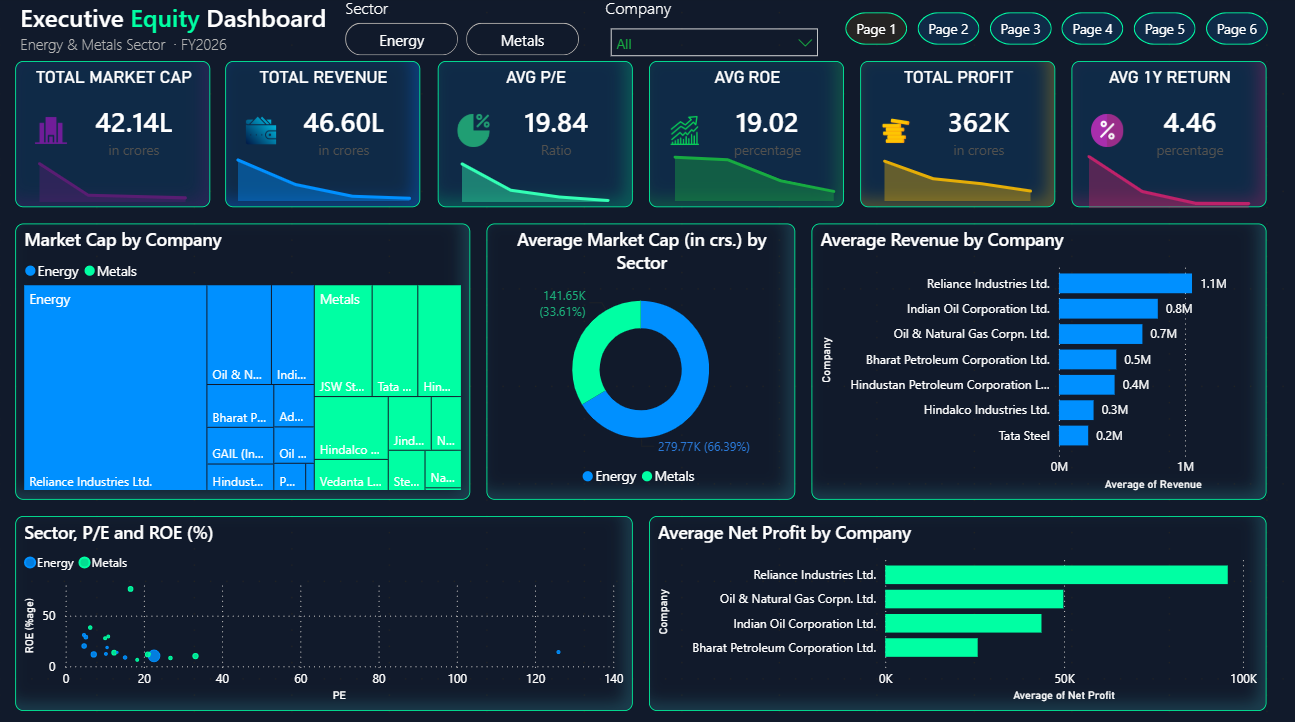

Layout of this report page (visuals, bound fields, positions):
{"tool":"powerbi","page":{"name":"Page 1","canvas":[1280,720],"ordinal":0},"visuals":[{"type":"textbox","box":[16,0,448,80],"z":0},{"type":"advancedSlicerVisual","fields":{"Values":["Company (Company_Master).Sector"]},"box":[336,0,240,64],"z":1000},{"type":"treemap","title":"Market Cap by Company","fields":{"Group":["Company (Company_Master).Sector"],"Details":["Company (Company_Master).Company"],"Values":["Avg(Company (Company_Master).Market Cap in crs.)"]},"box":[16,224,448,272],"z":2000},{"type":"donutChart","title":"Average Market Cap (in crs.) by Sector","fields":{"Category":["Company (Company_Master).Sector"],"Y":["Avg(Company (Company_Master).Market Cap in crs.)"]},"box":[480,224,304,272],"z":3000},{"type":"clusteredBarChart","title":"Average Revenue by Company","fields":{"Category":["Company (Company_Master).Company"],"Y":["Avg(Company (Company_Master).Revenue)"]},"box":[800,224,448,272],"z":4000},{"type":"scatterChart","title":"Sector, P/E and ROE (%)","fields":{"Y":["Company (Company_Master).ROE (%age)"],"X":["Company (Company_Master).PE"],"Size":["Sum(Company (Company_Master).Market Cap in crs.)"],"Series":["Company (Company_Master).Sector"]},"box":[16,512,608,192],"z":5000},{"type":"clusteredBarChart","title":"Average Net Profit by Company","fields":{"Category":["Company (Company_Master).Company"],"Y":["Avg(Company (Company_Master).Net Profit)"]},"box":[640,512,608,192],"z":6000},{"type":"cardVisual","title":"AVG 1Y RETURN","fields":{"Data":["Company (Company_Master).avg 1Y return"]},"box":[1056,64,192,144],"z":7000},{"type":"areaChart","fields":{"Category":["Company (Company_Master).Company"],"Y":["Avg(Company (Company_Master).1Y Return (%age))"]},"box":[1047.4,144,209.2,70.2],"z":8000},{"type":"cardVisual","title":"TOTAL REVENUE","fields":{"Data":["Sum(Company (Company_Master).Revenue in L cr)"]},"box":[223.3,63.8,192,144],"z":9000},{"type":"cardVisual","title":"TOTAL PROFIT","fields":{"Data":["Company (Company_Master).total profit"]},"box":[848,64,192,144],"z":10000},{"type":"areaChart","fields":{"Category":["Company (Company_Master).Company"],"Y":["Avg(Company (Company_Master).Revenue)"]},"box":[208,144,224,64],"z":11000},{"type":"cardVisual","title":"AVG ROE","fields":{"Data":["Company (Company_Master).avg ROE"]},"box":[640,64,192,144],"z":12000},{"type":"cardVisual","title":"TOTAL MARKET CAP","fields":{"Data":["Sum(Company (Company_Master).Market Cap in L cr)"]},"box":[16,64,192,144],"z":13000},{"type":"areaChart","fields":{"Category":["Company (Company_Master).Company"],"Y":["Avg(Company (Company_Master).Market Cap in crs.)"]},"box":[16,144,192,64],"z":14000},{"type":"areaChart","fields":{"Category":["Company (Company_Master).Company"],"Y":["Avg(Company (Company_Master).Net Profit)"]},"box":[848,144,192,64],"z":15000},{"type":"areaChart","fields":{"Category":["Company (Company_Master).Company"],"Y":["Avg(Company (Company_Master).ROE (%age))"]},"box":[640,144,208,64],"z":16000},{"type":"cardVisual","title":"AVG P/E","fields":{"Data":["Company (Company_Master).avg PE"]},"box":[432,64,192,144],"z":17000},{"type":"areaChart","fields":{"Category":["Company (Company_Master).Company"],"Y":["Avg(Company (Company_Master).PE)"]},"box":[432,144,192,64],"z":18000},{"type":"slicer","title":"Company","fields":{"Values":["Company (Company_Master).Company"]},"box":[592,0,224,64],"z":19000},{"type":"pageNavigator","box":[833.2,16,416,32],"z":20000}]}

Visuals, with their boxes in screenshot pixels (x1, y1, x2, y2), scaled from the page's 1280x720 canvas onto the 1295x722 screenshot:
textbox: 16,0,469,80
advancedSlicerVisual - Company (Company_Master).Sector: 340,0,583,64
"Market Cap by Company" treemap: 16,225,469,497
"Average Market Cap (in crs.) by Sector" donutChart: 486,225,793,497
"Average Revenue by Company" clusteredBarChart: 809,225,1263,497
"Sector, P/E and ROE (%)" scatterChart: 16,513,631,706
"Average Net Profit by Company" clusteredBarChart: 648,513,1263,706
"AVG 1Y RETURN" cardVisual: 1068,64,1263,209
areaChart - Company (Company_Master).Company x Avg(Company (Company_Master).1Y Return (%age)): 1060,144,1271,215
"TOTAL REVENUE" cardVisual: 226,64,420,208
"TOTAL PROFIT" cardVisual: 858,64,1052,209
areaChart - Company (Company_Master).Company x Avg(Company (Company_Master).Revenue): 210,144,437,209
"AVG ROE" cardVisual: 648,64,842,209
"TOTAL MARKET CAP" cardVisual: 16,64,210,209
areaChart - Company (Company_Master).Company x Avg(Company (Company_Master).Market Cap in crs.): 16,144,210,209
areaChart - Company (Company_Master).Company x Avg(Company (Company_Master).Net Profit): 858,144,1052,209
areaChart - Company (Company_Master).Company x Avg(Company (Company_Master).ROE (%age)): 648,144,858,209
"AVG P/E" cardVisual: 437,64,631,209
areaChart - Company (Company_Master).Company x Avg(Company (Company_Master).PE): 437,144,631,209
"Company" slicer: 599,0,826,64
pageNavigator: 843,16,1264,48
